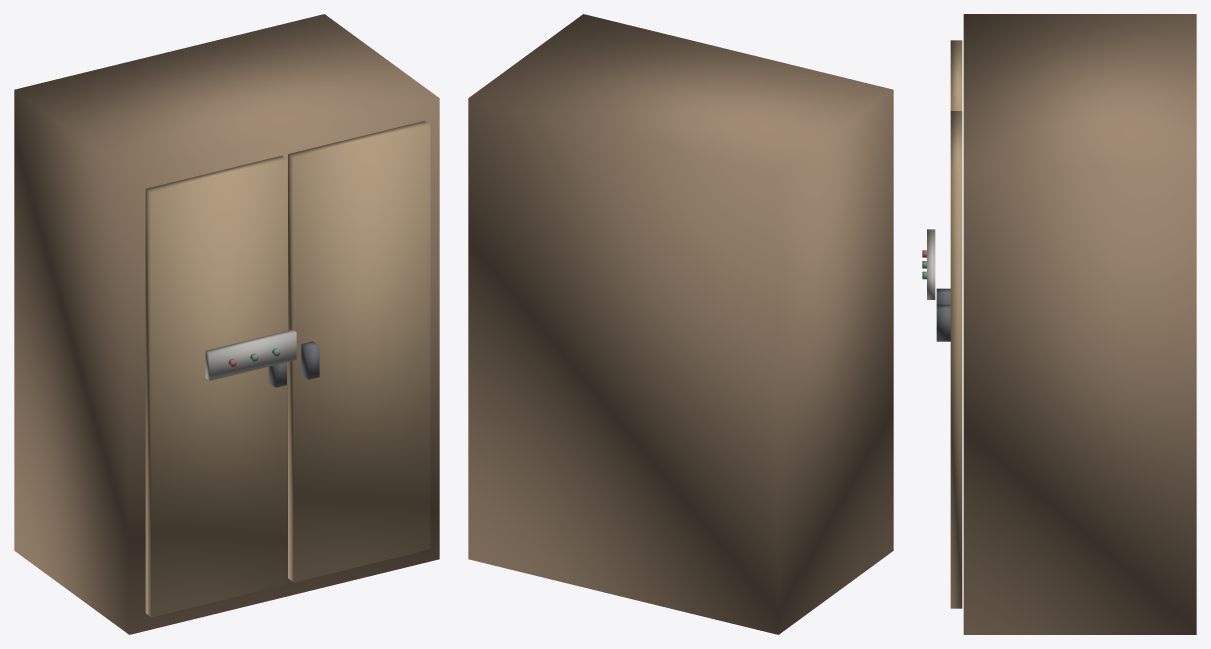
The model's file is lab_reagent_cabinet__deep.glb.
3 renders of one model, left to right at view 1: azimuth 30°, elevation 25°; view 2: azimuth 150°, elevation 25°; view 3: azimuth 270°, elevation 25°, orthographic.
Parts seen in each view (by area): view 1: world; view 2: world; view 3: world.
Part boxes in pixels (x1,y1,x2,y2): world: [14, 14, 439, 634]; world: [468, 14, 893, 634]; world: [922, 14, 1196, 634].
Bounding box in the file's own units: 0.95 × 1.35 × 0.718.
